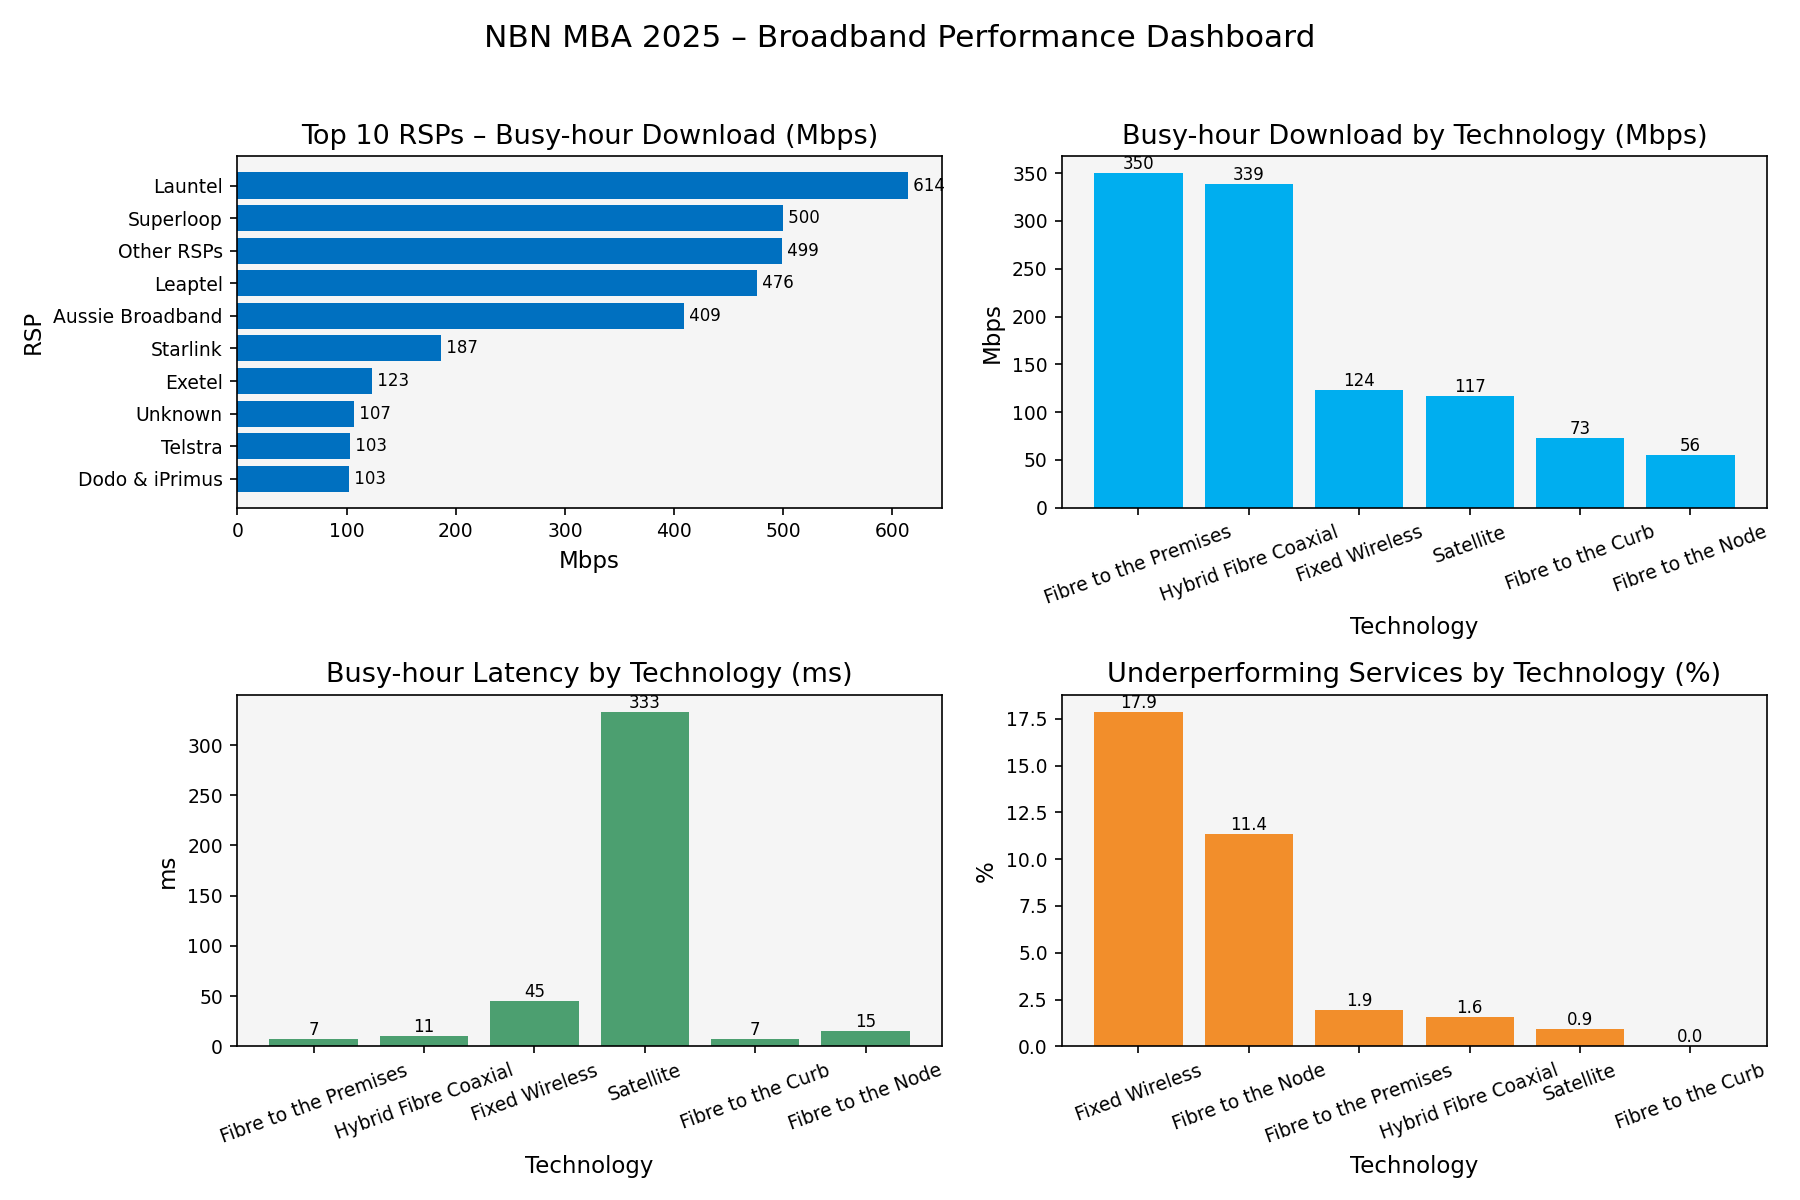

This screenshot's page, from the dashboard's own definition file:
{"tool":"powerbi","page":{"name":"Page 1","canvas":[1280,720],"ordinal":0},"visuals":[{"type":"barChart","title":"Top 10 RSPs - Busy-hour Download (Mbps) ","fields":{"Category":["rsp_summary.rsp"],"Y":["Avg(rsp_summary.Busy hour trimmed mean download speed)"]},"box":[0,50.7,563,326.6],"z":0},{"type":"clusteredColumnChart","title":"Busy-hour Download by Technology (Mbps)","fields":{"Category":["tech_summary.technology"],"Y":["Avg(tech_summary.Busy hour trimmed mean download speed)"]},"box":[623.1,28.2,495.5,369.7],"z":1},{"type":"clusteredColumnChart","title":"Busy-hour Latency by Technology (ms)","fields":{"Category":["tech_summary.technology"],"Y":["Avg(tech_summary.Busy hour trimmed mean latency)"]},"box":[13.1,377.2,576.2,343.5],"z":2},{"type":"clusteredColumnChart","title":"Underperforming Services by Technology (%)","fields":{"Category":["network_health_by_tech.technology"],"Y":["Sum(network_health_by_tech.underperf_pct)"]},"box":[633,398,573,322],"z":3},{"type":"textbox","box":[372,0,464,28],"z":4}]}

Visuals, with their boxes on the page's 1280x720 design canvas (x1, y1, x2, y2). These are canvas units, not pixel positions in the 1800x1200 screenshot, which may show the page scaled, cropped or inside an application window:
"Top 10 RSPs - Busy-hour Download (Mbps) " barChart: [x1=0, y1=51, x2=563, y2=377]
"Busy-hour Download by Technology (Mbps)" clusteredColumnChart: [x1=623, y1=28, x2=1119, y2=398]
"Busy-hour Latency by Technology (ms)" clusteredColumnChart: [x1=13, y1=377, x2=589, y2=721]
"Underperforming Services by Technology (%)" clusteredColumnChart: [x1=633, y1=398, x2=1206, y2=720]
textbox: [x1=372, y1=0, x2=836, y2=28]
